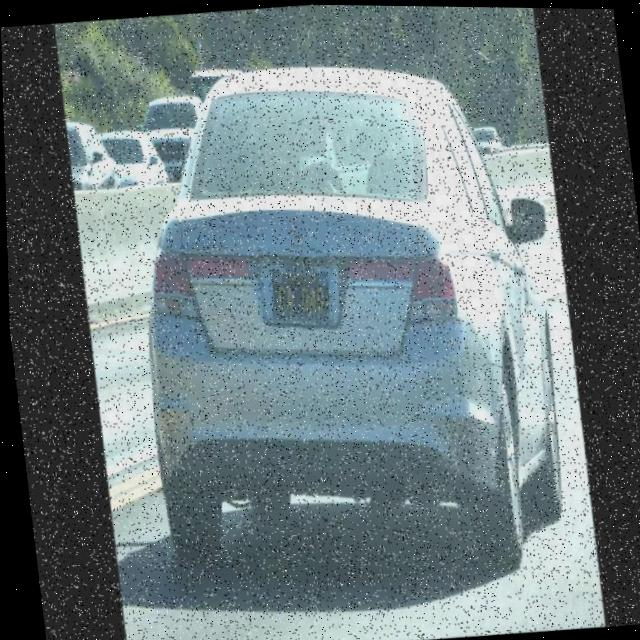LicensePlate: (253, 241, 338, 334)
